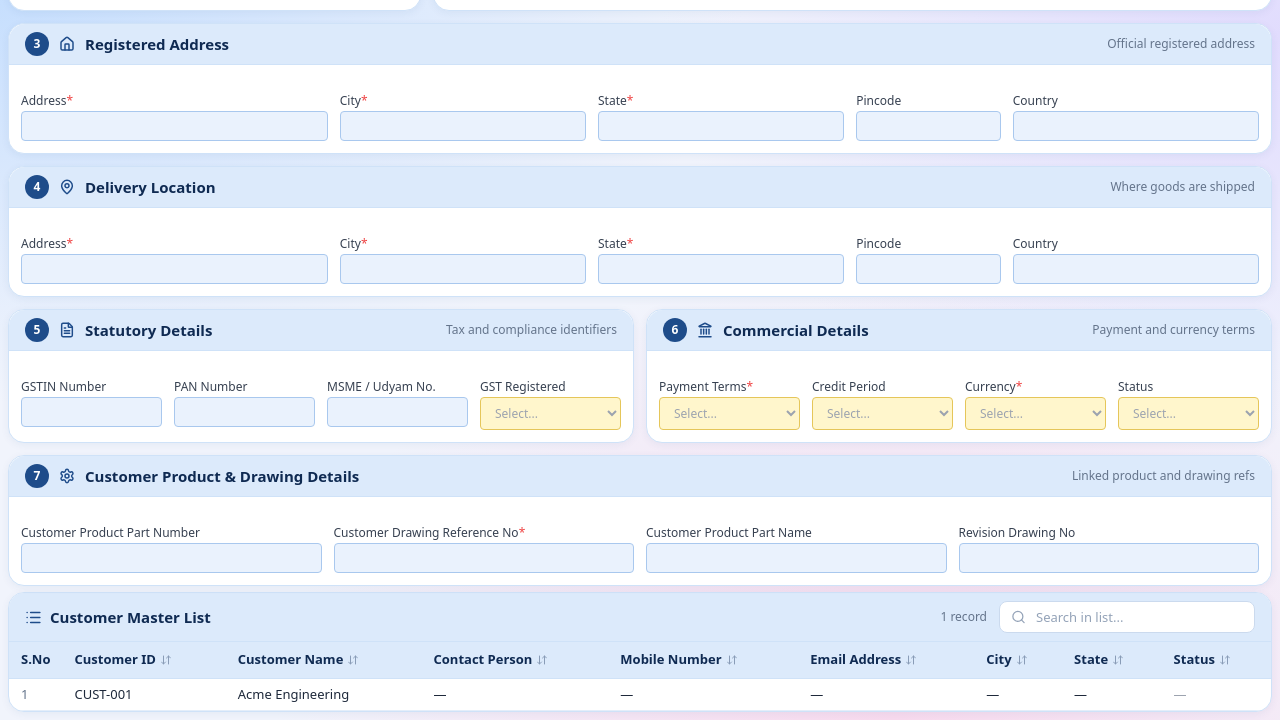
it: Customer Master delete › a DB error closes the dialog and shows in the Banner
(page scrolled)
Click the text "CUST-001". click: [104, 694]
box: [62,678,226,710]
(page scrolled)
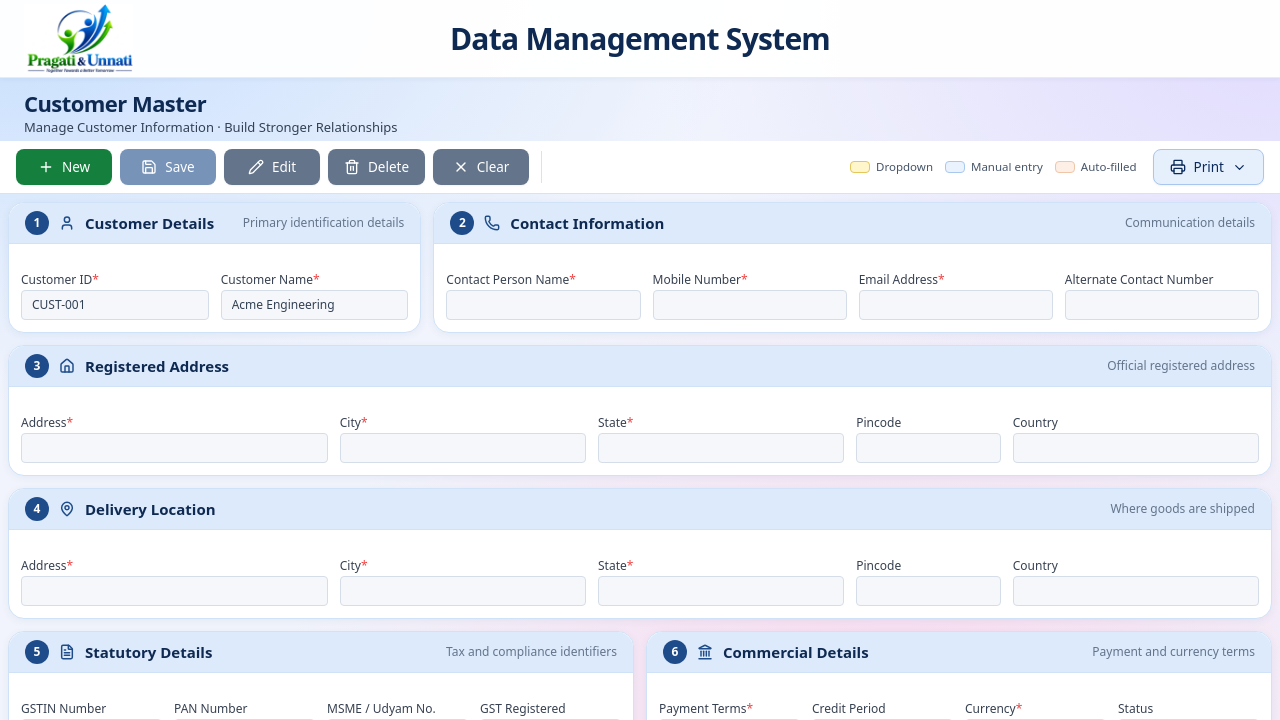
Click the button "Delete". click: [377, 167]
box: [328,149,425,185]
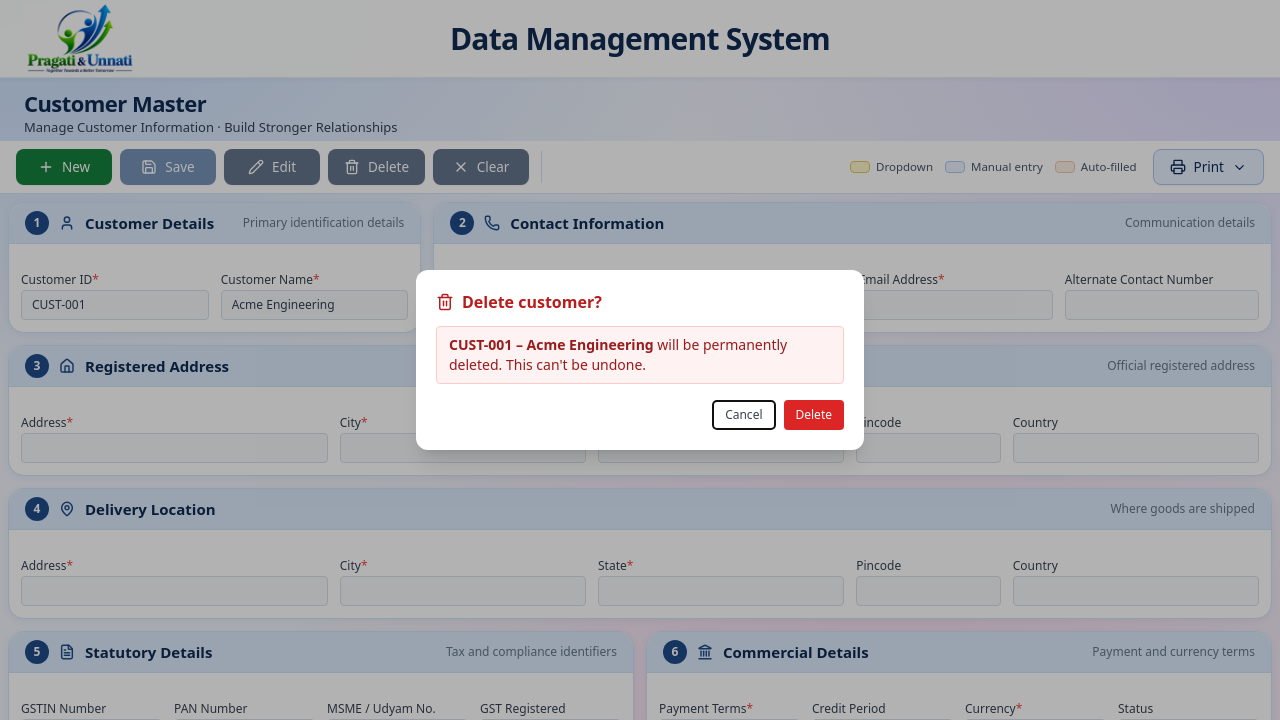
Click the button "Delete". click: [814, 415]
box: [784,400,844,430]
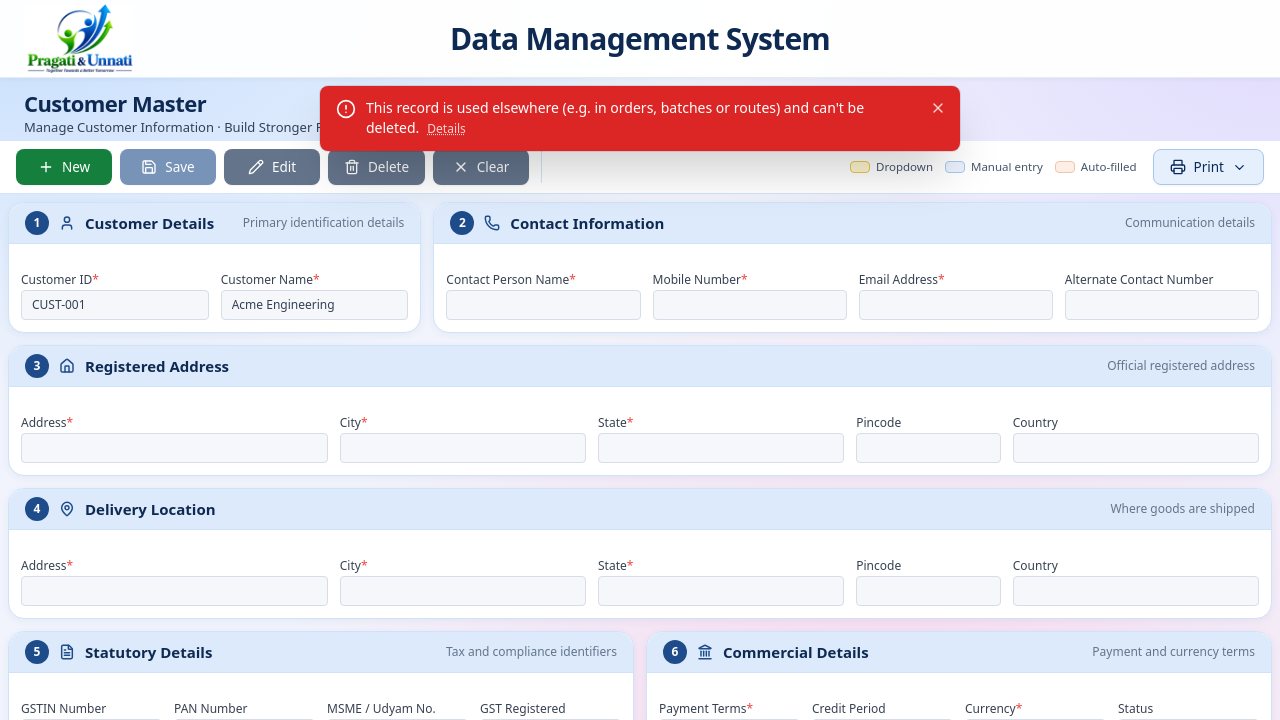
Expected: the dialog is gone
Expected: the message is shown, [320,86,960,151]
